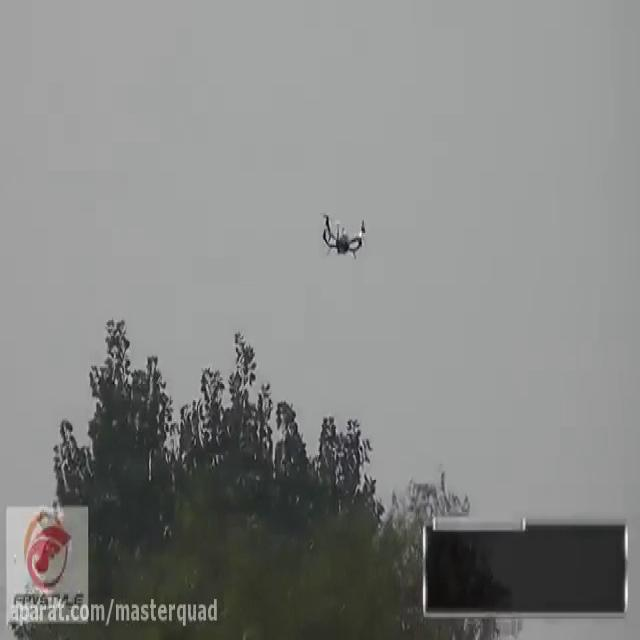drone: (315, 204, 371, 262)
